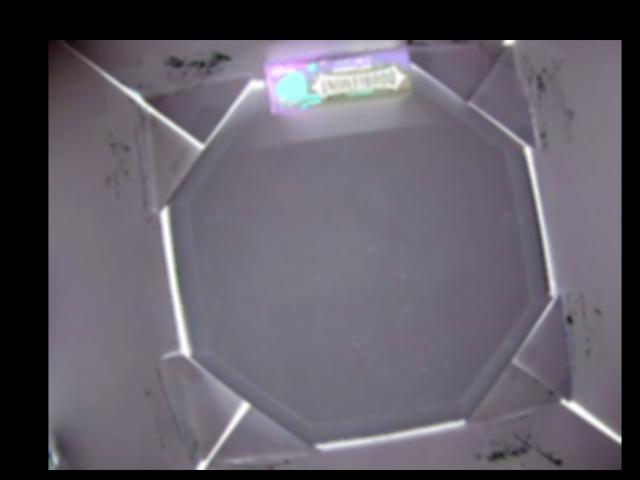Bottle: (266, 43, 412, 115)
